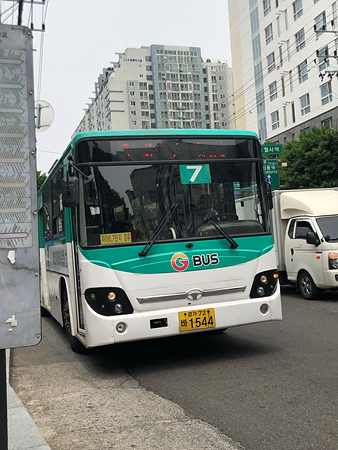bnum: (182, 162, 207, 182)
